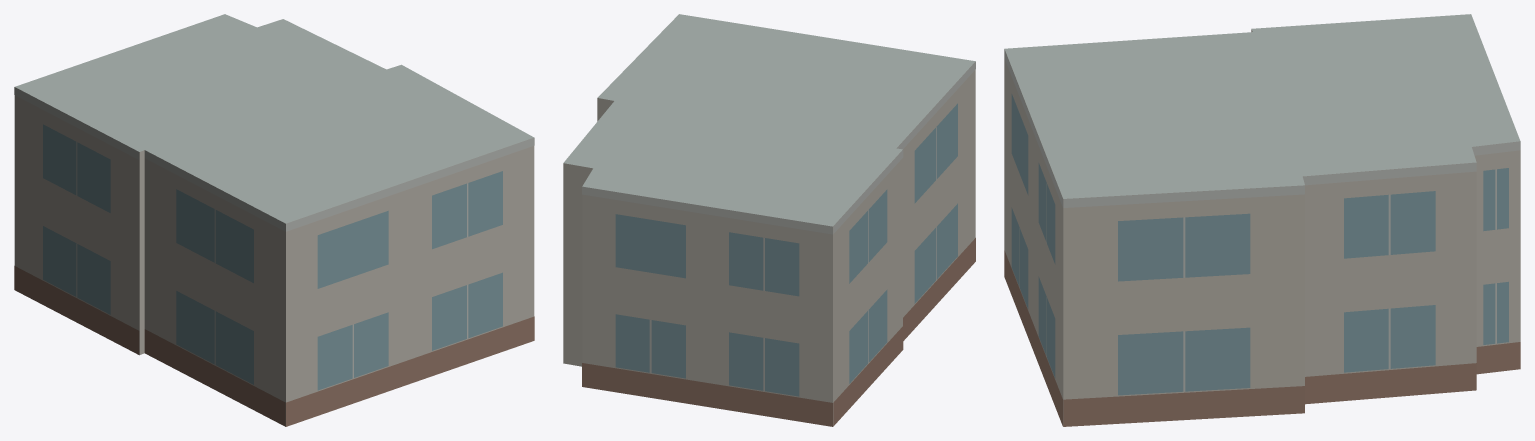
Rendered from survey-upis-32575178.glb.
The picture shows the model from 3 angles, left to right: view 1: azimuth 30°, elevation 25°; view 2: azimuth 150°, elevation 25°; view 3: azimuth 270°, elevation 25°; orthographic projection. The views are drawn at different scales.
Visible parts, largest first — view 1: survey-upis-32575178.tmp; view 2: survey-upis-32575178.tmp; view 3: survey-upis-32575178.tmp.
Part boxes in pixels (<box>): survey-upis-32575178.tmp: <box>14,14,534,426</box>; survey-upis-32575178.tmp: <box>563,14,975,426</box>; survey-upis-32575178.tmp: <box>1004,14,1520,426</box>.
Size of the model in its own units: 10.63 by 6.1 by 12.53.
